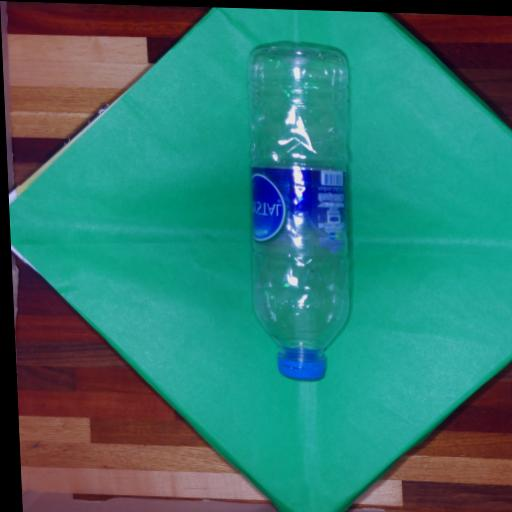bottle: (249, 47, 349, 380)
